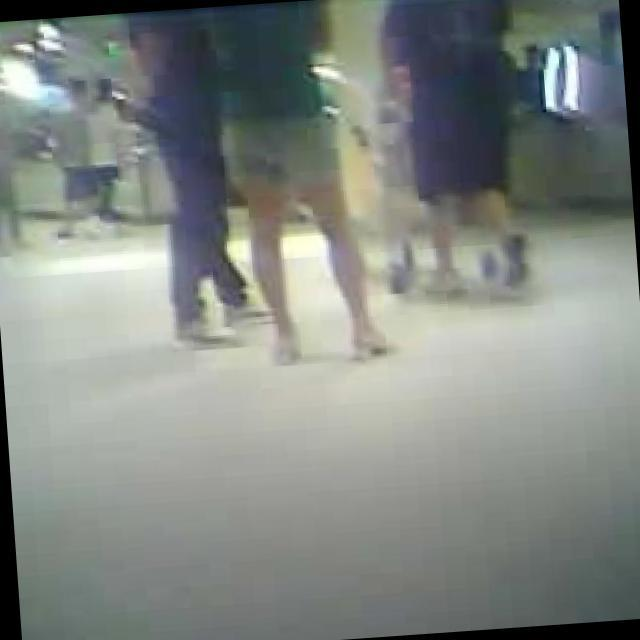person: (207, 0, 390, 374), (125, 4, 271, 348), (392, 0, 536, 296), (42, 72, 104, 240), (84, 72, 138, 230), (0, 87, 34, 252)
